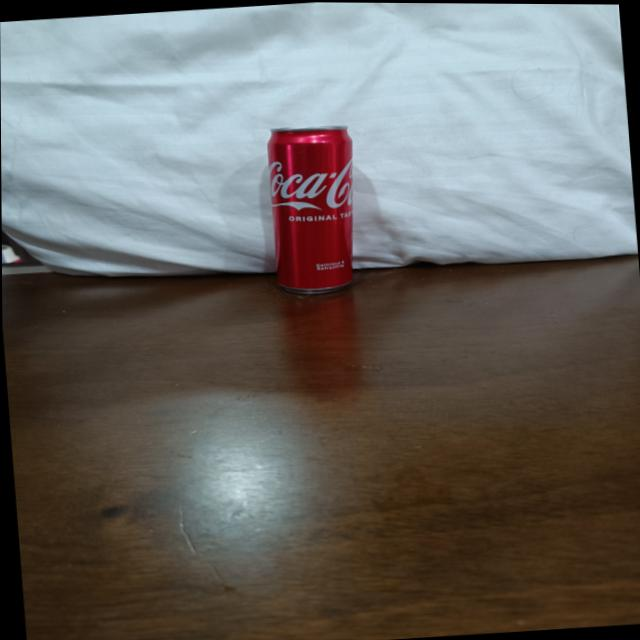coke: (259, 122, 366, 299)
